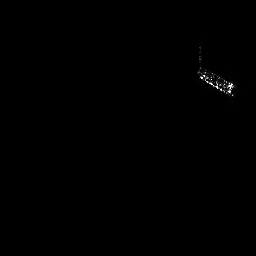ship: (194, 57, 233, 97)
